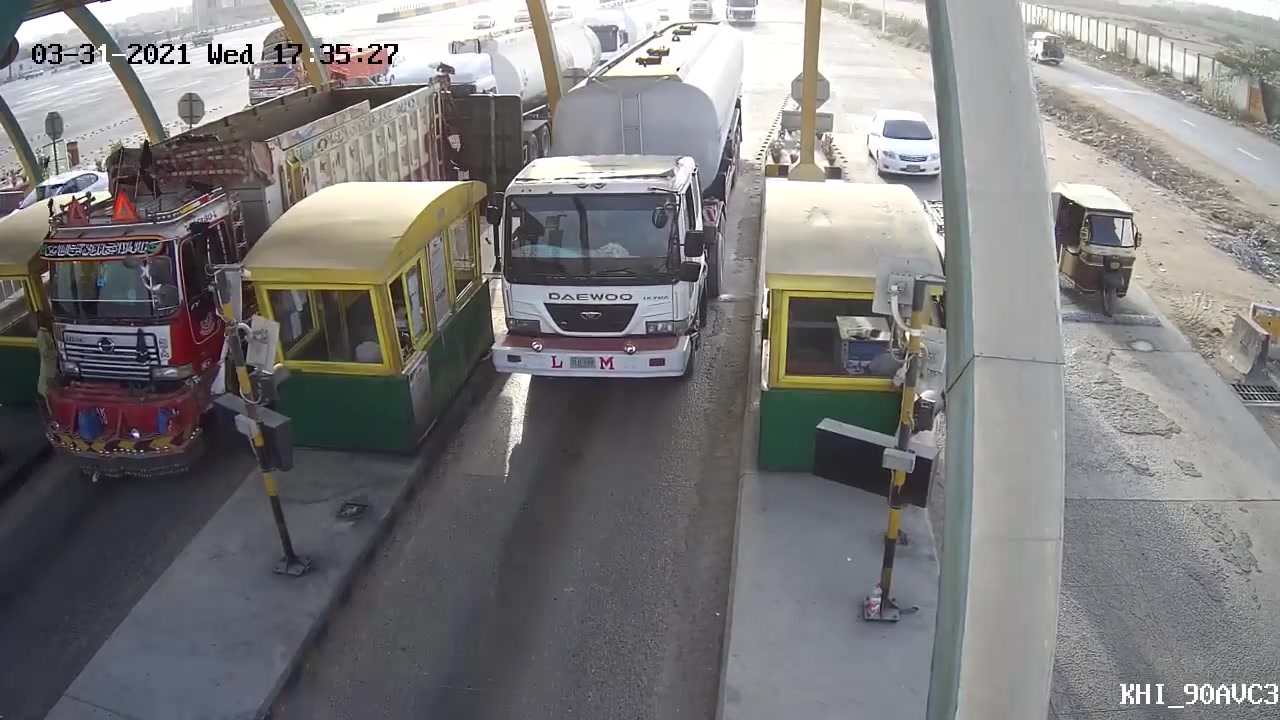F6: (476, 30, 748, 407)
